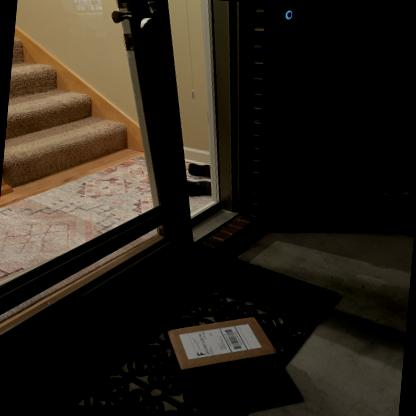box: (163, 317, 281, 374)
